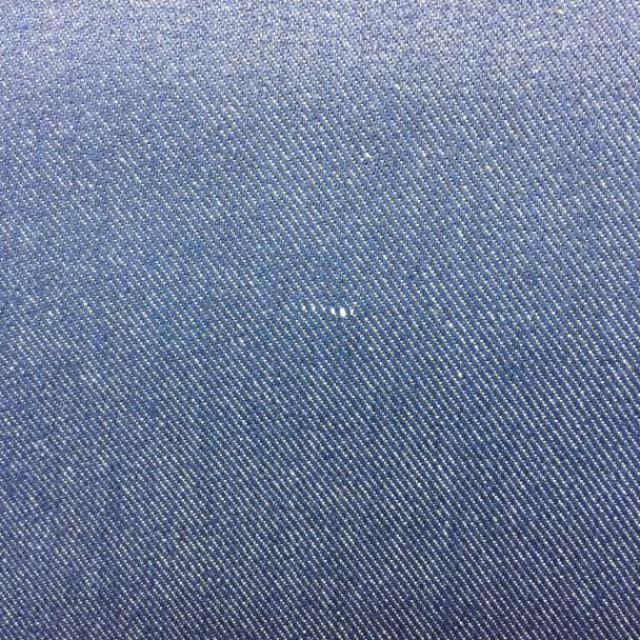Knot: (301, 303, 358, 319)
